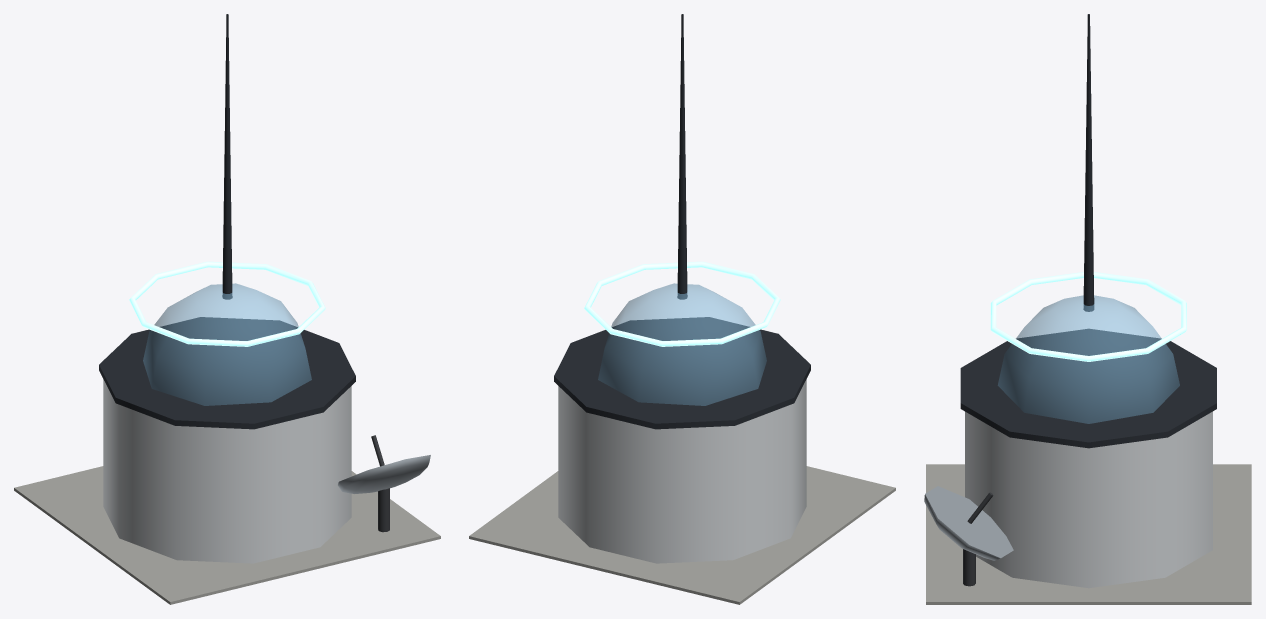
The model's file is bld_special_research_center_a09_lod1.glb.
The picture shows the model from 3 angles, left to right: view 1: azimuth 30°, elevation 25°; view 2: azimuth 150°, elevation 25°; view 3: azimuth 270°, elevation 25°; orthographic projection. The views are drawn at different scales.
Parts seen in each view (by area): view 1: body, antenna; view 2: body; view 3: body, antenna.
Boxes of the visible parts, left/top/right/bottom form: body: left=14, top=14, right=440, bottom=604; antenna: left=338, top=435, right=430, bottom=532; body: left=469, top=14, right=895, bottom=604; body: left=926, top=14, right=1251, bottom=604; antenna: left=924, top=486, right=1013, bottom=586.
Size of the model in its own units: 15.5 by 26.5 by 15.08.
